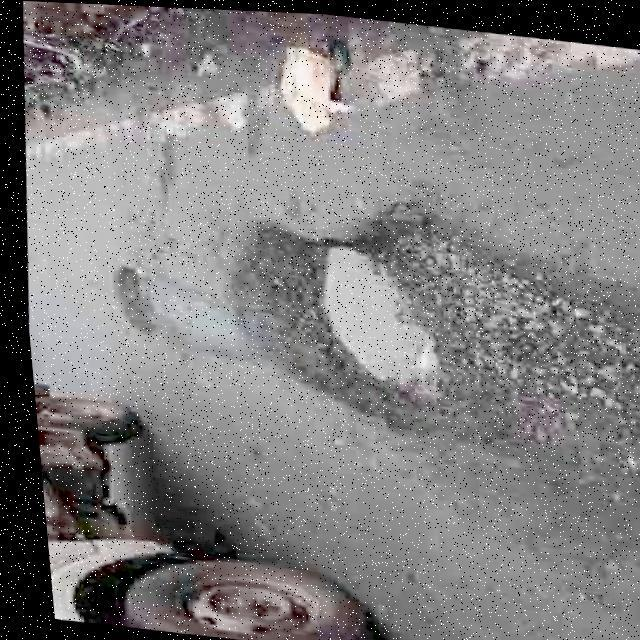pothole: (208, 178, 640, 460), (100, 262, 156, 336)
